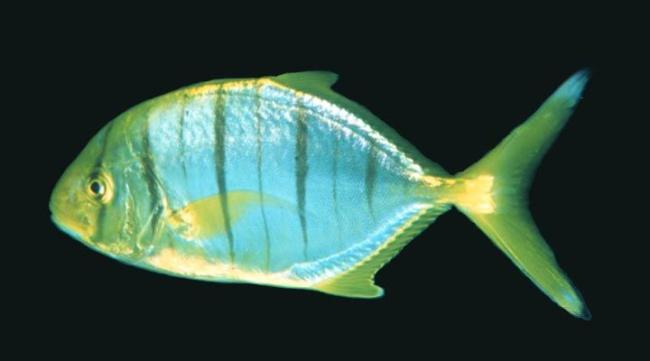fish: (47, 67, 596, 324)
